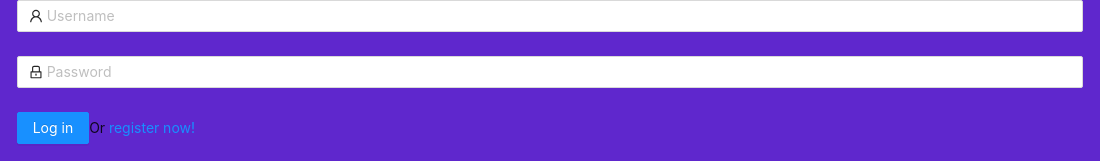
Login View › should notify user that username and password are required
Click the button at (53, 128), box [17,112,89,144]
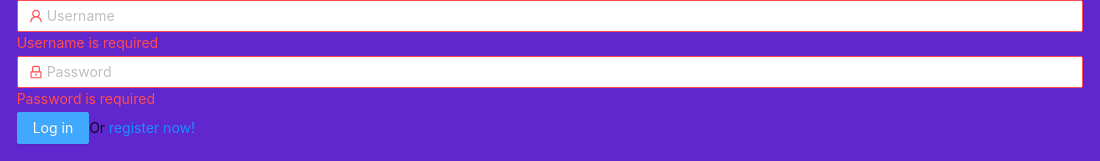
Expected: the text "Username is required" is shown, [17,34,158,51]
Expected: the text "Password is required" is shown, [17,90,155,107]
